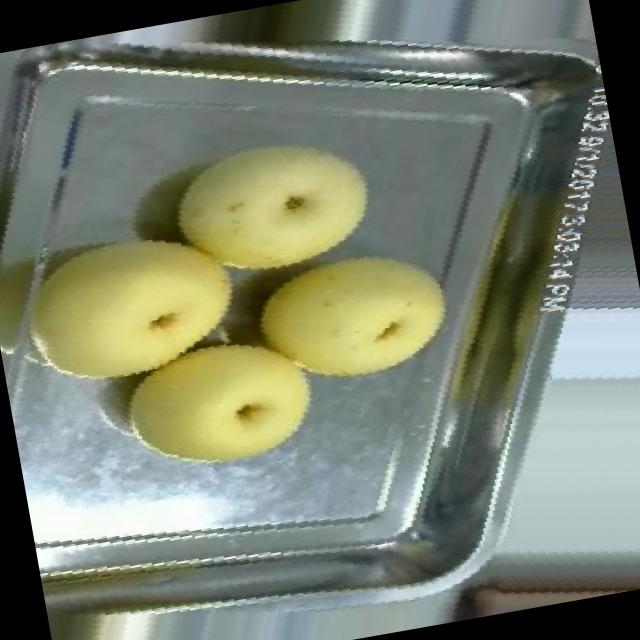Fruit: (0, 179, 268, 427), (134, 94, 403, 318), (225, 214, 477, 409), (94, 299, 342, 497)
